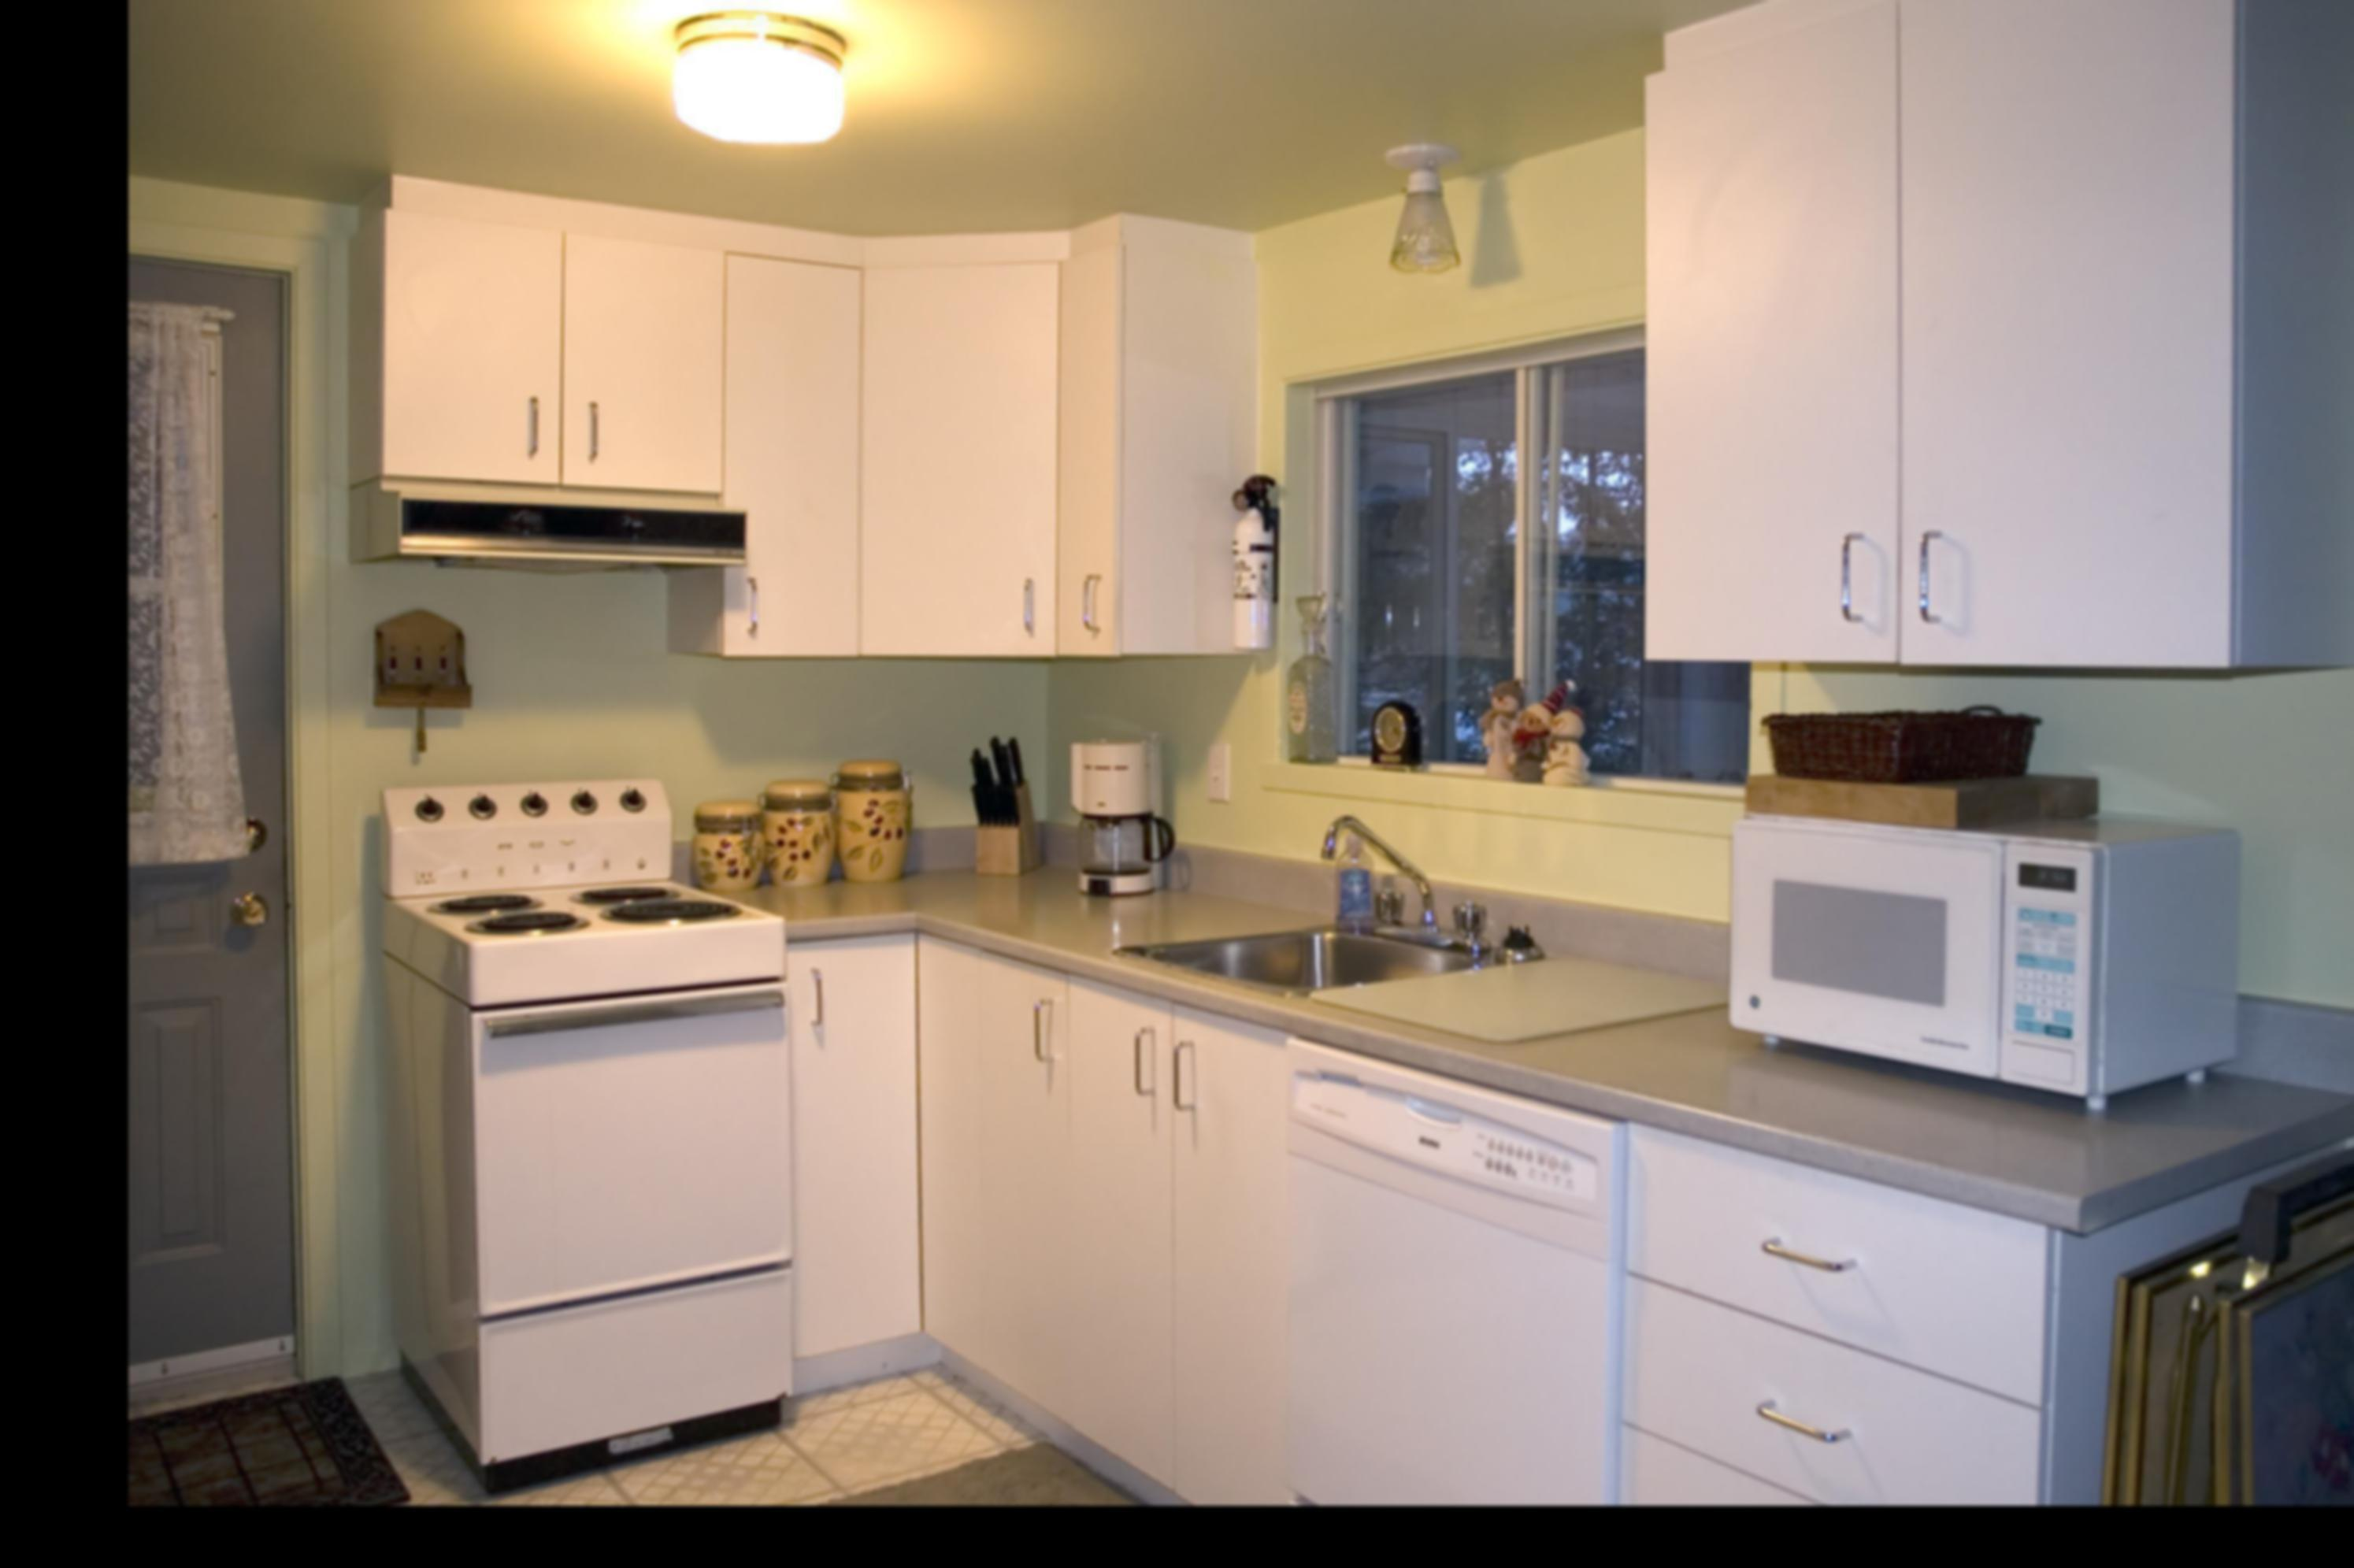Electrodomestico: (378, 768, 788, 1493), (1269, 1024, 1624, 1500)
Lavaplatos: (1110, 798, 1538, 1006)
Puerta: (133, 257, 305, 1410)
